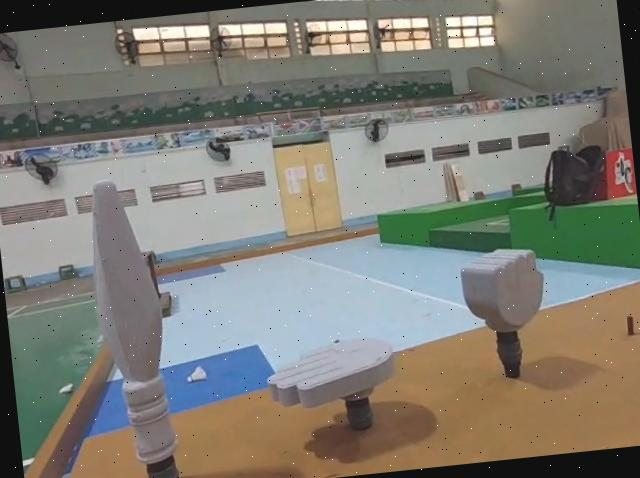Fist: (455, 243, 555, 399)
Hand: (266, 329, 404, 444)
Sph: (80, 170, 190, 478)
